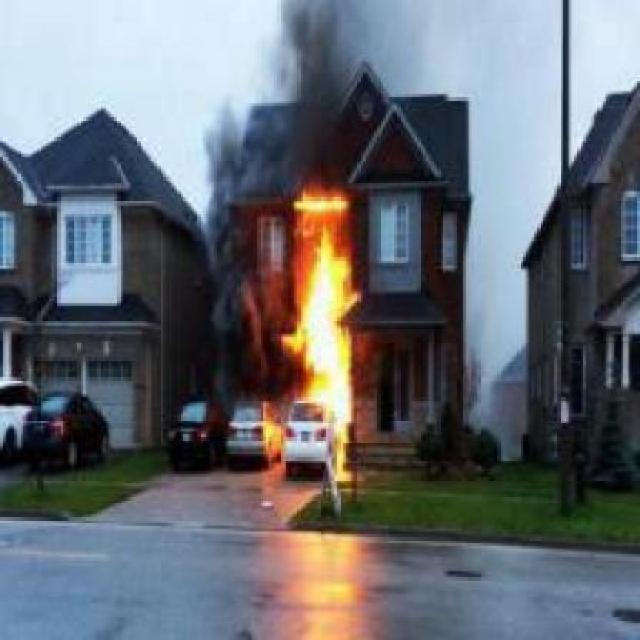Fire: (276, 194, 360, 398), (326, 398, 356, 482)
Smoke: (276, 2, 352, 184)
